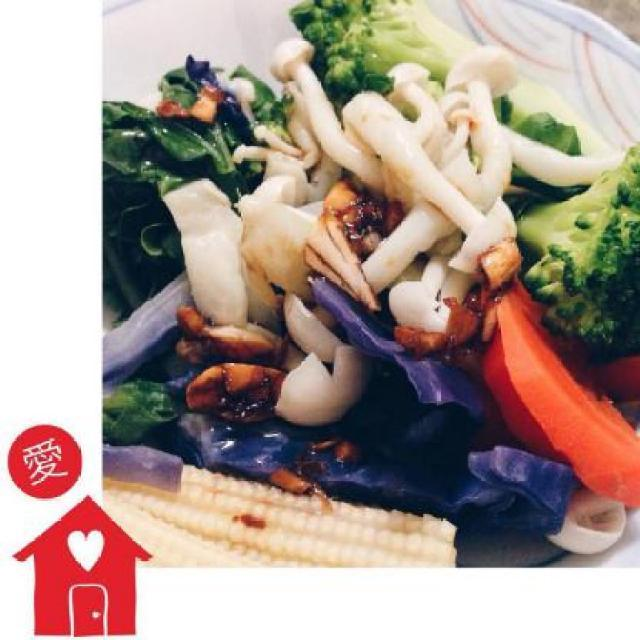Broccoli: (507, 147, 639, 359), (283, 0, 460, 109)
